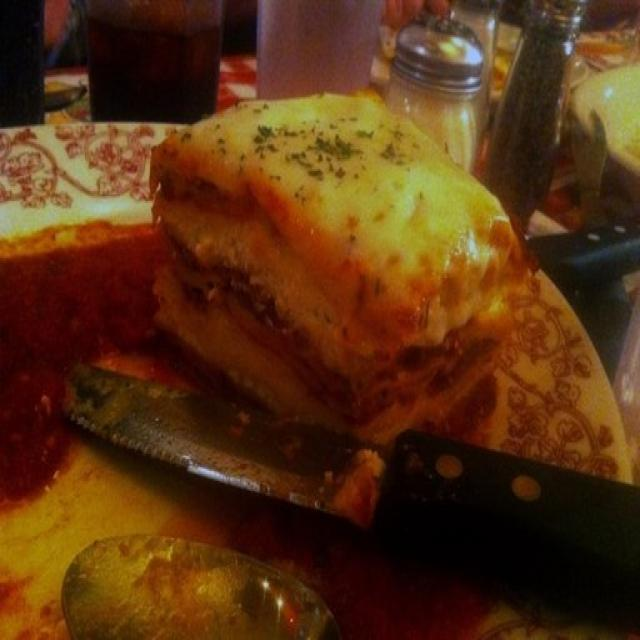Lasagna: (112, 71, 558, 535)
